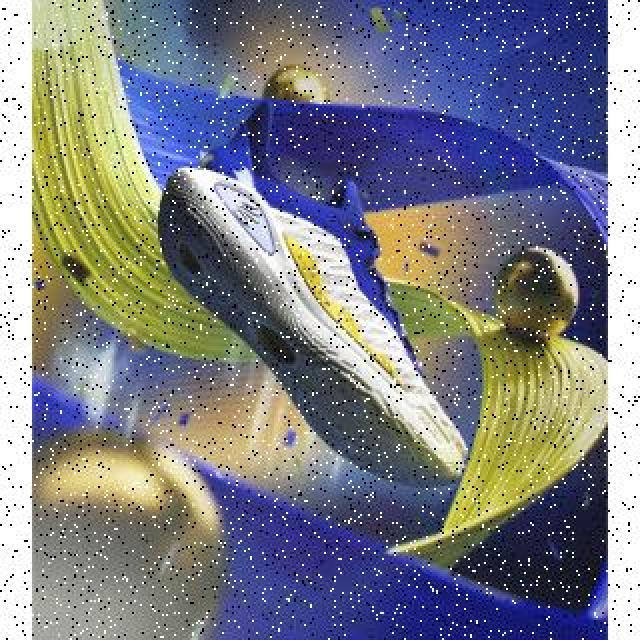shoe: (156, 101, 466, 485)
